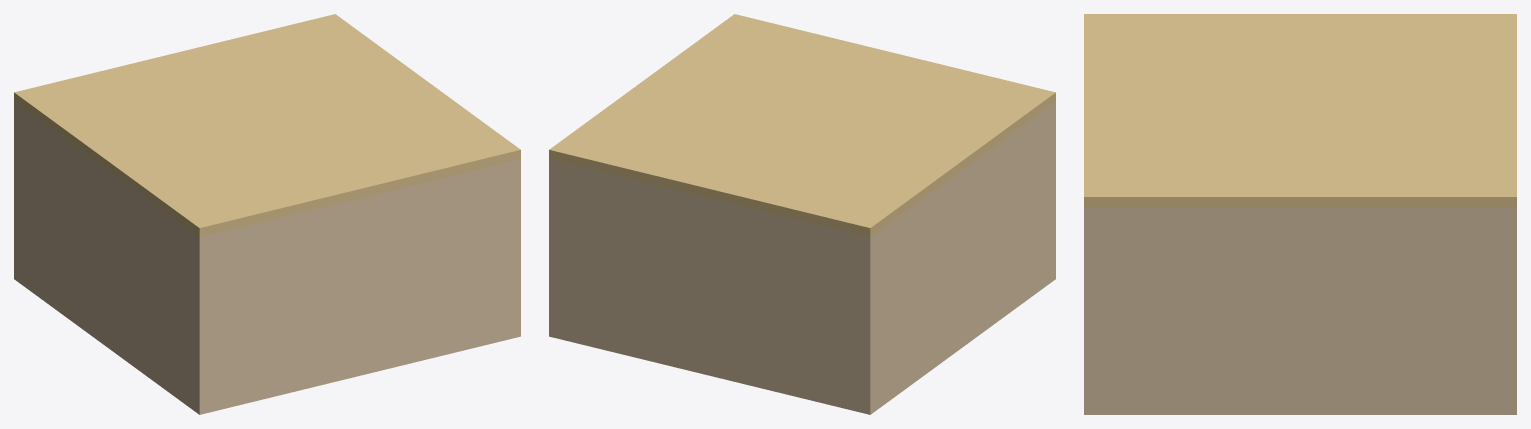
Rendered from BS_Block_Base_Center.fbx.
3 views of the same model, side by side, from view 1: azimuth 30°, elevation 25°; view 2: azimuth 150°, elevation 25°; view 3: azimuth 270°, elevation 25° (orthographic). The views are drawn at different scales.
Parts seen in each view (by area): view 1: BS_Block_Base_Center; view 2: BS_Block_Base_Center; view 3: BS_Block_Base_Center.
Part boxes in pixels (<box>): BS_Block_Base_Center: <box>14,14,520,414</box>; BS_Block_Base_Center: <box>549,14,1055,414</box>; BS_Block_Base_Center: <box>1084,14,1516,414</box>.
Bounding box in the file's own units: 90 × 90 × 50.
